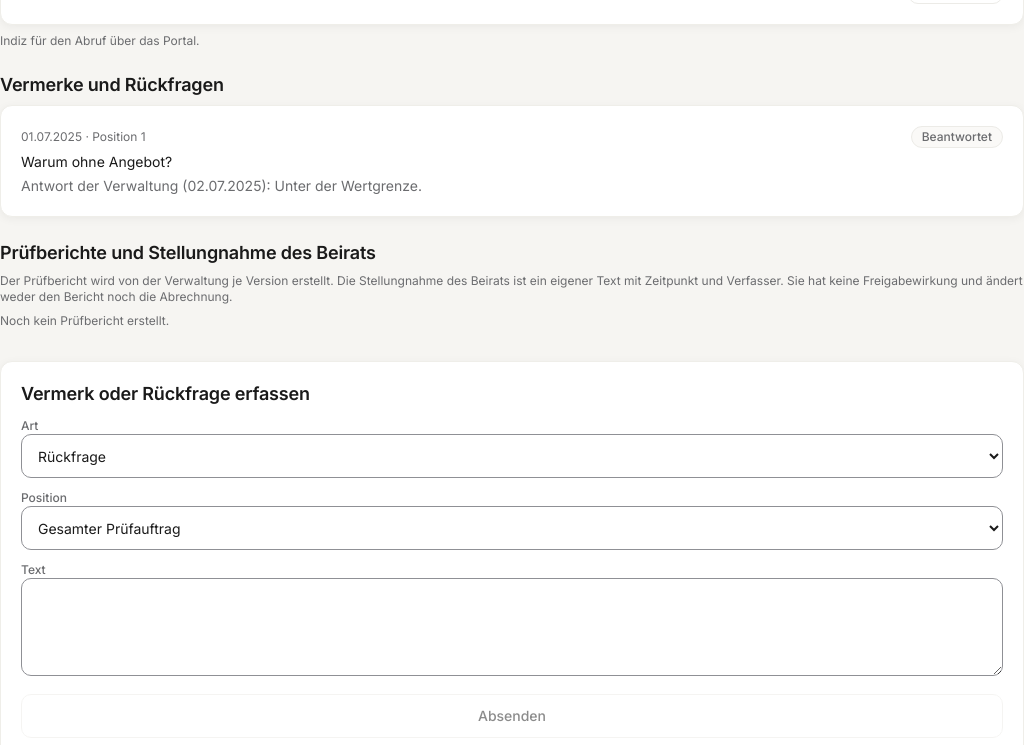
Test: BoardEngagementDetail › sends a question for a position and refreshes
The width and height of the screenshot is (1024, 745).
(page scrolled)
Select "Position 1: Gartenpflege Juni" in the dropdown labelled "Position". click: [512, 528]
box: [21,506,1003,550]
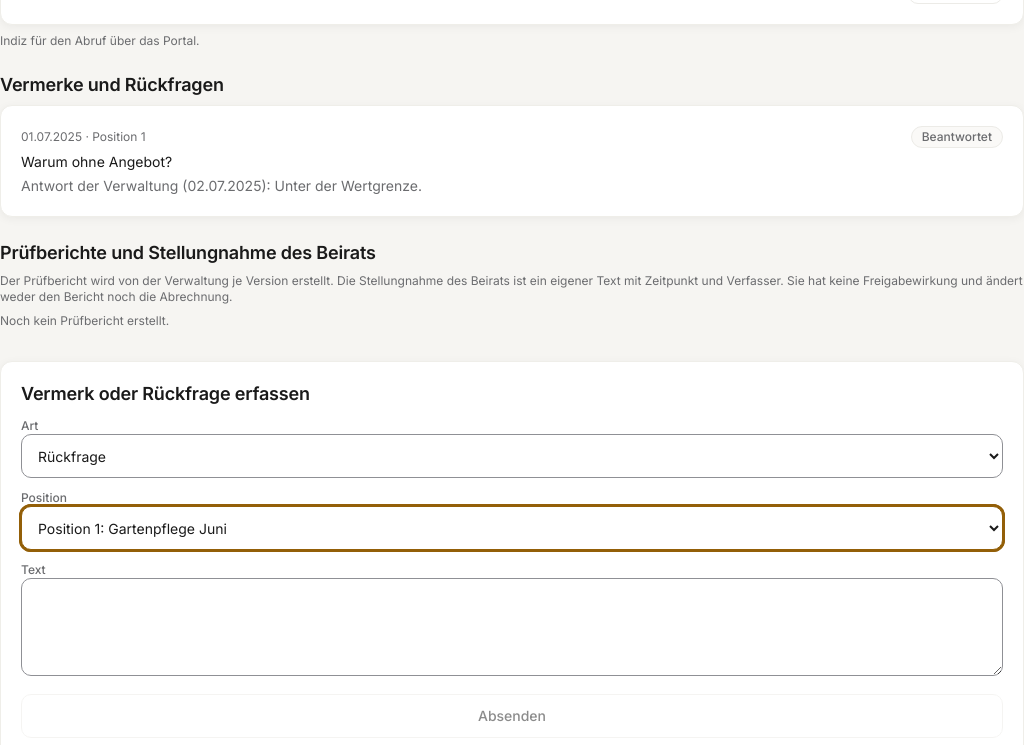
Type "Bitte das Angebot nachreichen." into the text box labelled "Text". click: [512, 627]
box: [21,578,1003,676]
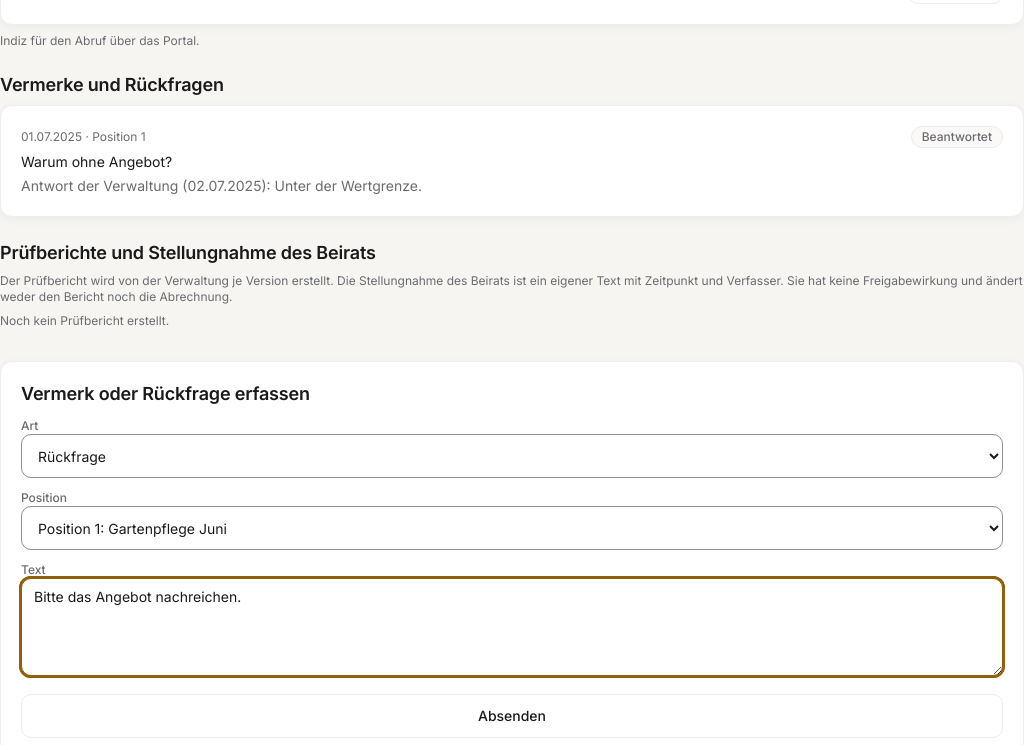
Click the button "Absenden". click: [512, 716]
box: [21,694,1003,738]
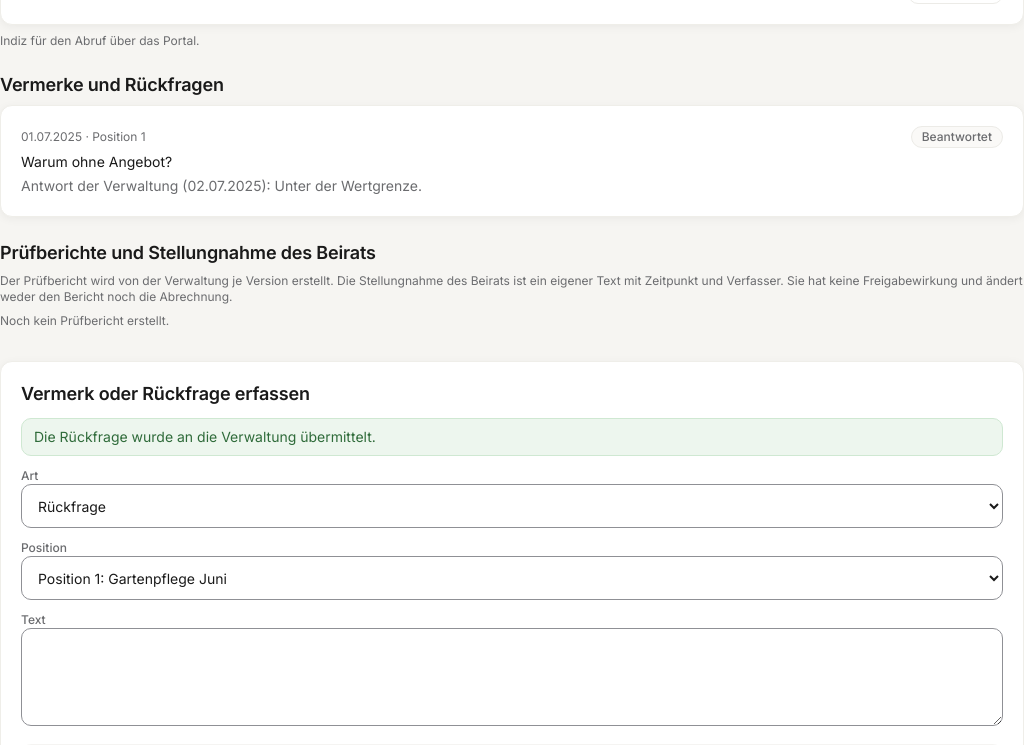
Result: the text "Die Rückfrage wurde an die Verwaltung übermittelt." is shown at [21,418,1003,456]
